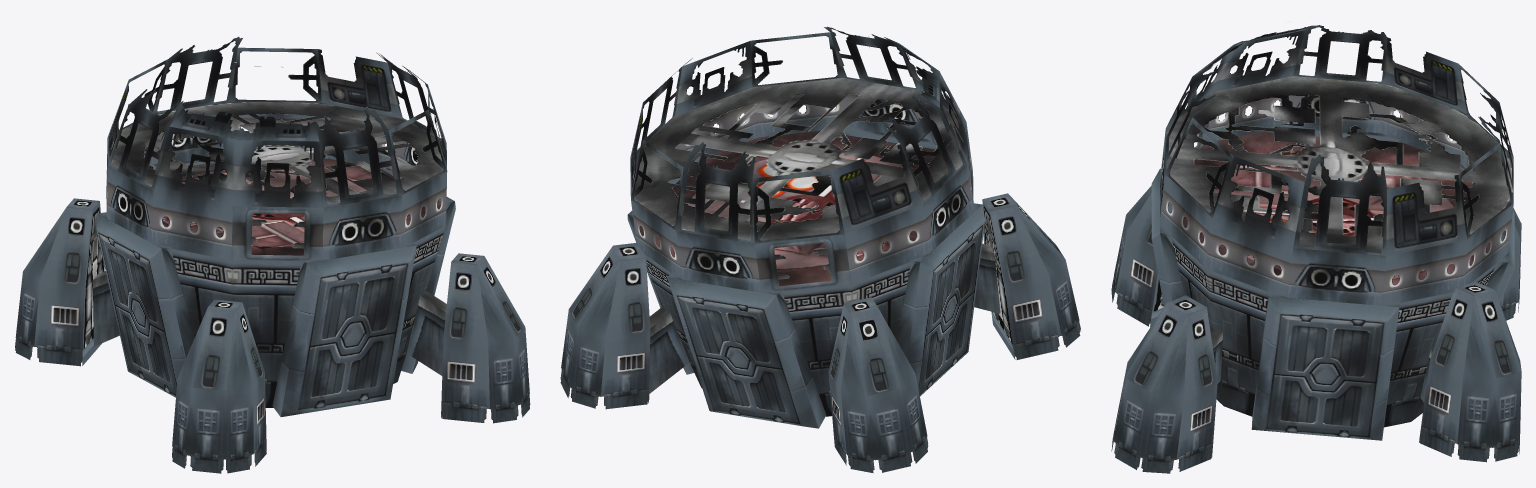
Rendered from dropshipsteiner_dam_hdtex.glb.
3 renders of one model, left to right at view 1: azimuth 30°, elevation 25°; view 2: azimuth 150°, elevation 25°; view 3: azimuth 270°, elevation 25°, orthographic. The views are drawn at different scales.
Parts seen in each view (by area): view 1: DropshipDam; view 2: DropshipDam; view 3: DropshipDam.
Boxes of the visible parts, bbox=[...] form: DropshipDam: bbox=[15, 36, 530, 473]; DropshipDam: bbox=[560, 26, 1080, 473]; DropshipDam: bbox=[1111, 21, 1521, 473].
Bounding box in the file's own units: 35.96 × 32.97 × 34.85.
1 material, 1 textured.
